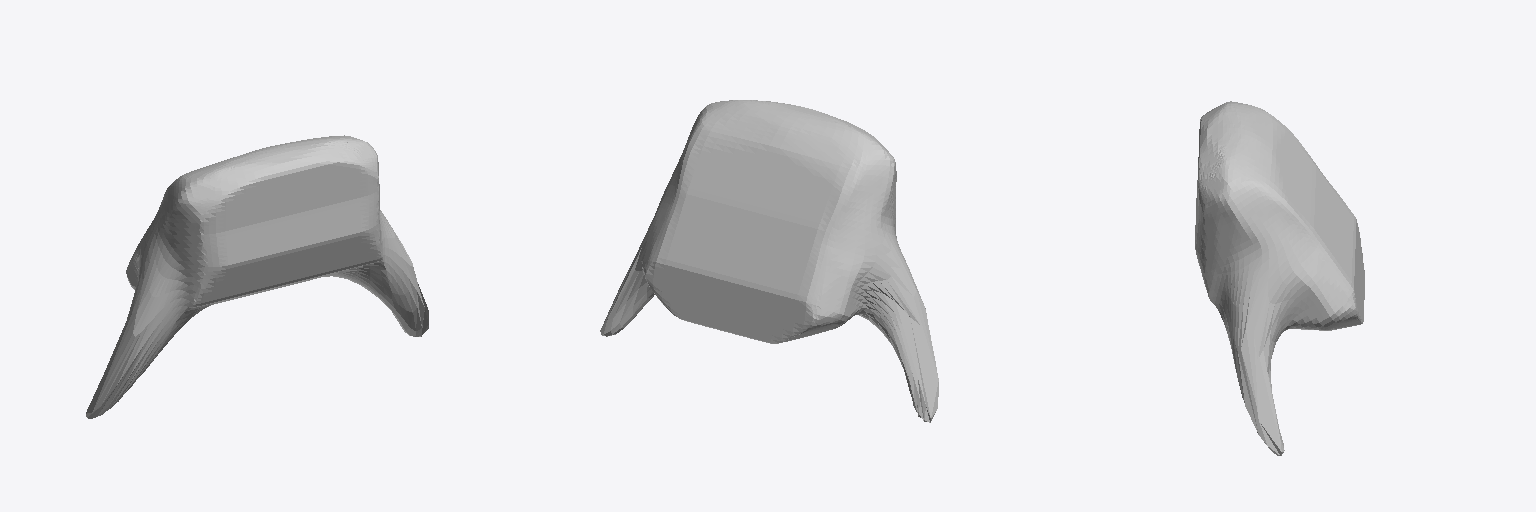
The model's file is vertabrae3.obj.
3 views of the same model, side by side, from view 1: azimuth 30°, elevation 25°; view 2: azimuth 150°, elevation 25°; view 3: azimuth 270°, elevation 25° (orthographic).
Parts seen in each view (by area): view 1: Cube.051_Cube.012; view 2: Cube.051_Cube.012; view 3: Cube.051_Cube.012.
Boxes of the visible parts, x1=… form: Cube.051_Cube.012: x1=86, y1=135, x2=428, y2=418; Cube.051_Cube.012: x1=600, y1=100, x2=938, y2=422; Cube.051_Cube.012: x1=1195, y1=101, x2=1364, y2=455.
Bounding box in the file's own units: 0.1757 × 0.1251 × 0.0777.